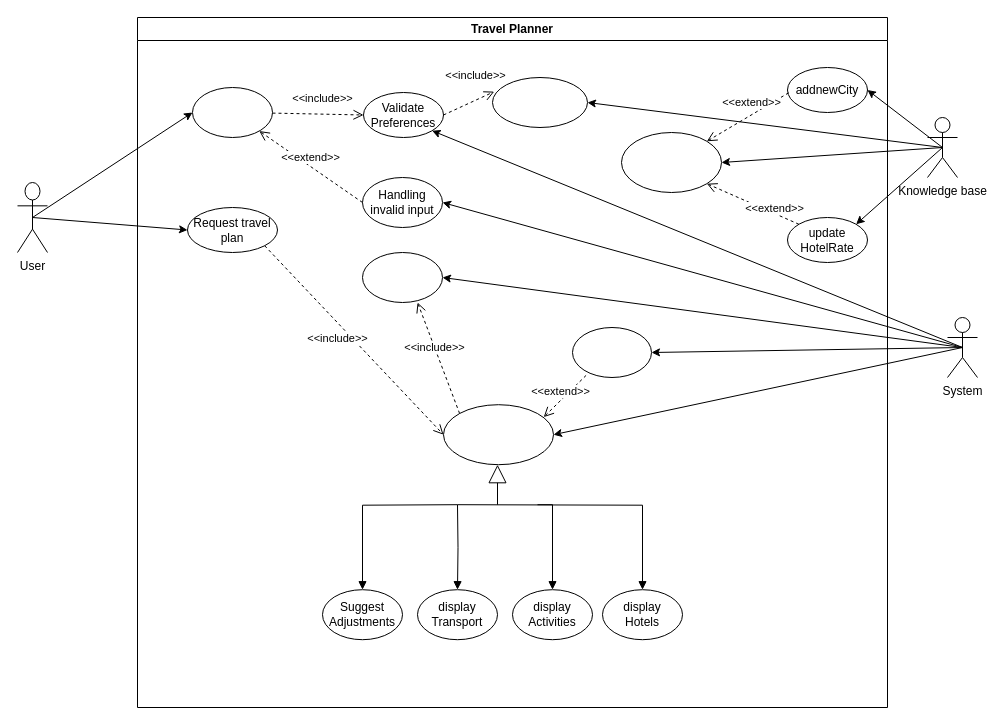
Some shapes in this 1004 by 725 pixel diagram are drawn without their labels. Here are the shapes that lost their labels. From the top down, the box of each, then its label:
(192, 86, 272, 138): Enter Preferences
(492, 76, 588, 128): Store Preferences
(620, 132, 722, 192): Update knowledge base
(362, 252, 442, 302): Check Budget
(572, 326, 652, 378): display Destination
(442, 404, 554, 465): display Recommendations
